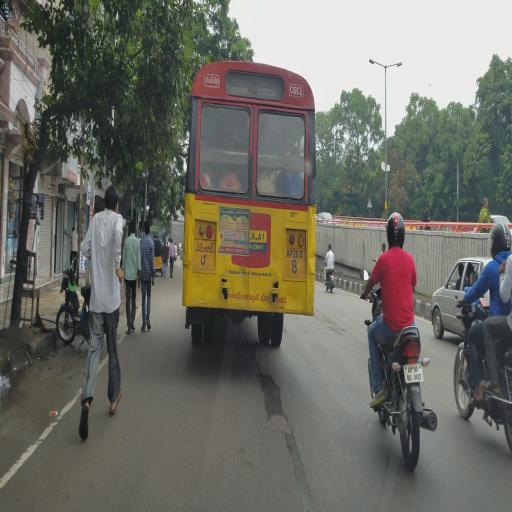street_light_0: (364, 44, 388, 80), (383, 54, 407, 80)
